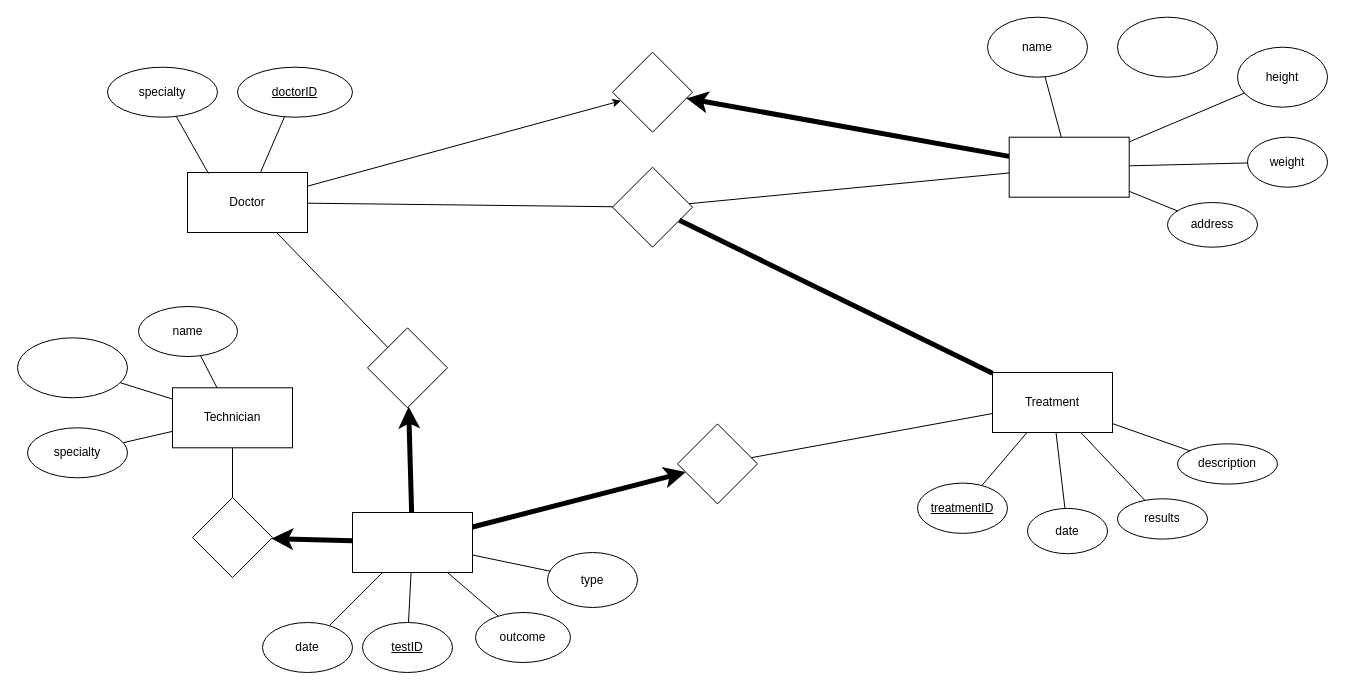
This 1345x691 diagram has some shape labels left out. The shapes that lost their labels are listed below. From the top down, each one's centre as x and y in pixels, then its label:
the point at 1167,46: patientID
the point at 652,91: examine
the point at 1068,166: Patient
the point at 652,206: treat
the point at 72,367: technicianID
the point at 407,367: order
the point at 717,463: done for
the point at 232,537: run
the point at 412,542: Test
